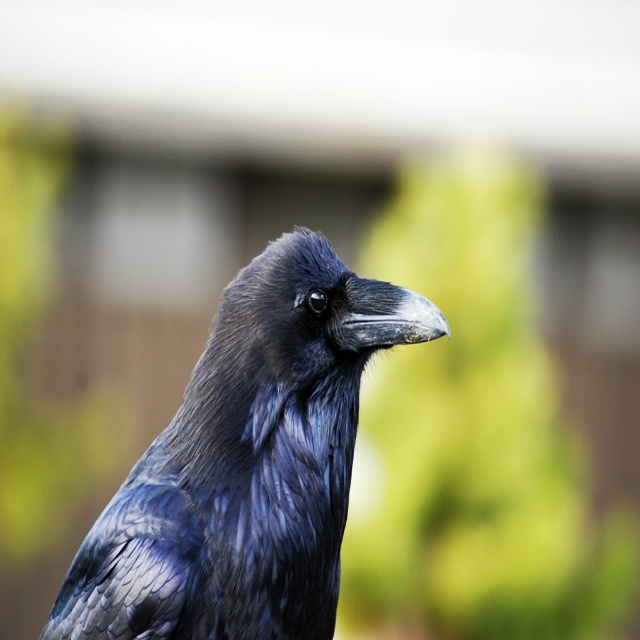Raven: (39, 224, 451, 640)
